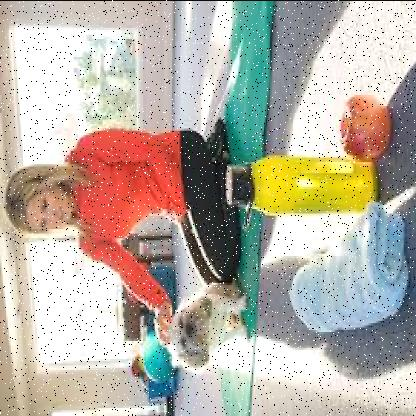apple: (336, 91, 390, 162)
